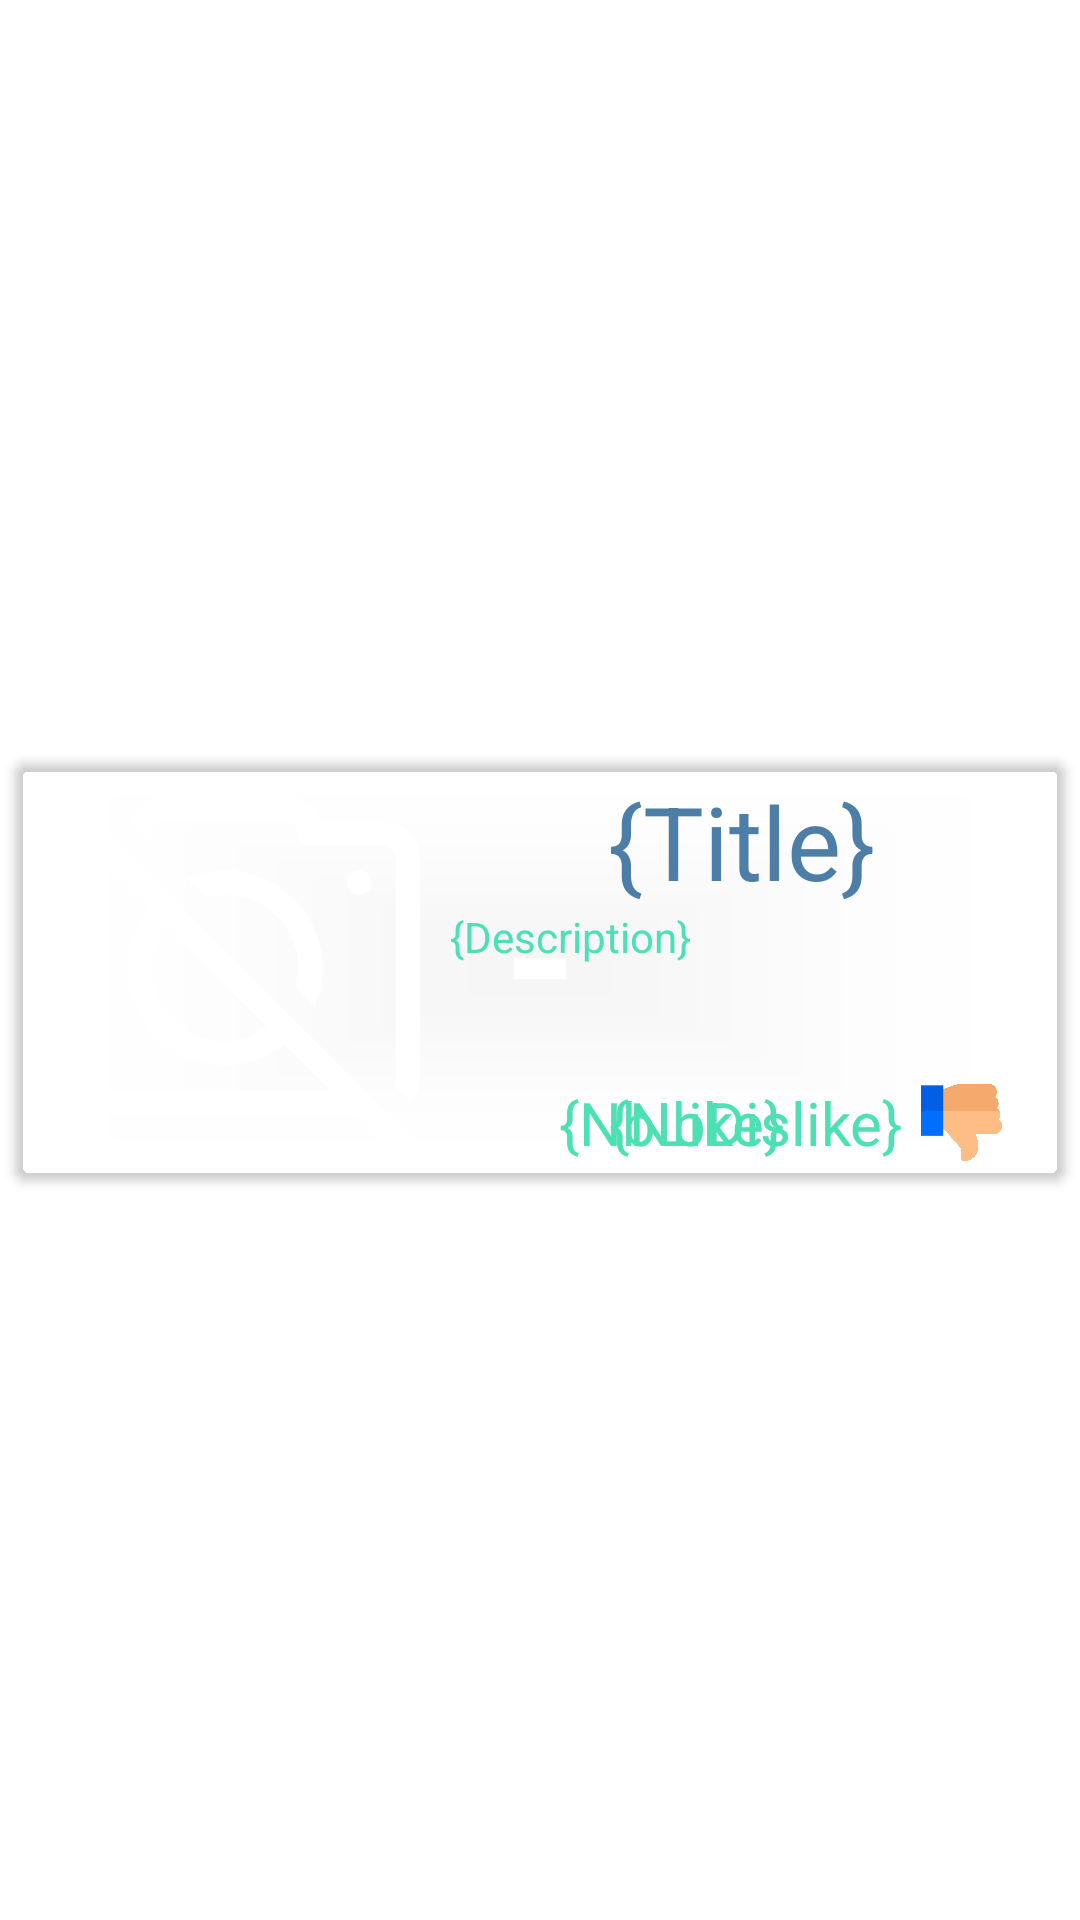

Where to tap for icons on this 1080 x 1920 app screen, as (x,y):
activated dislike: (961,1122)
